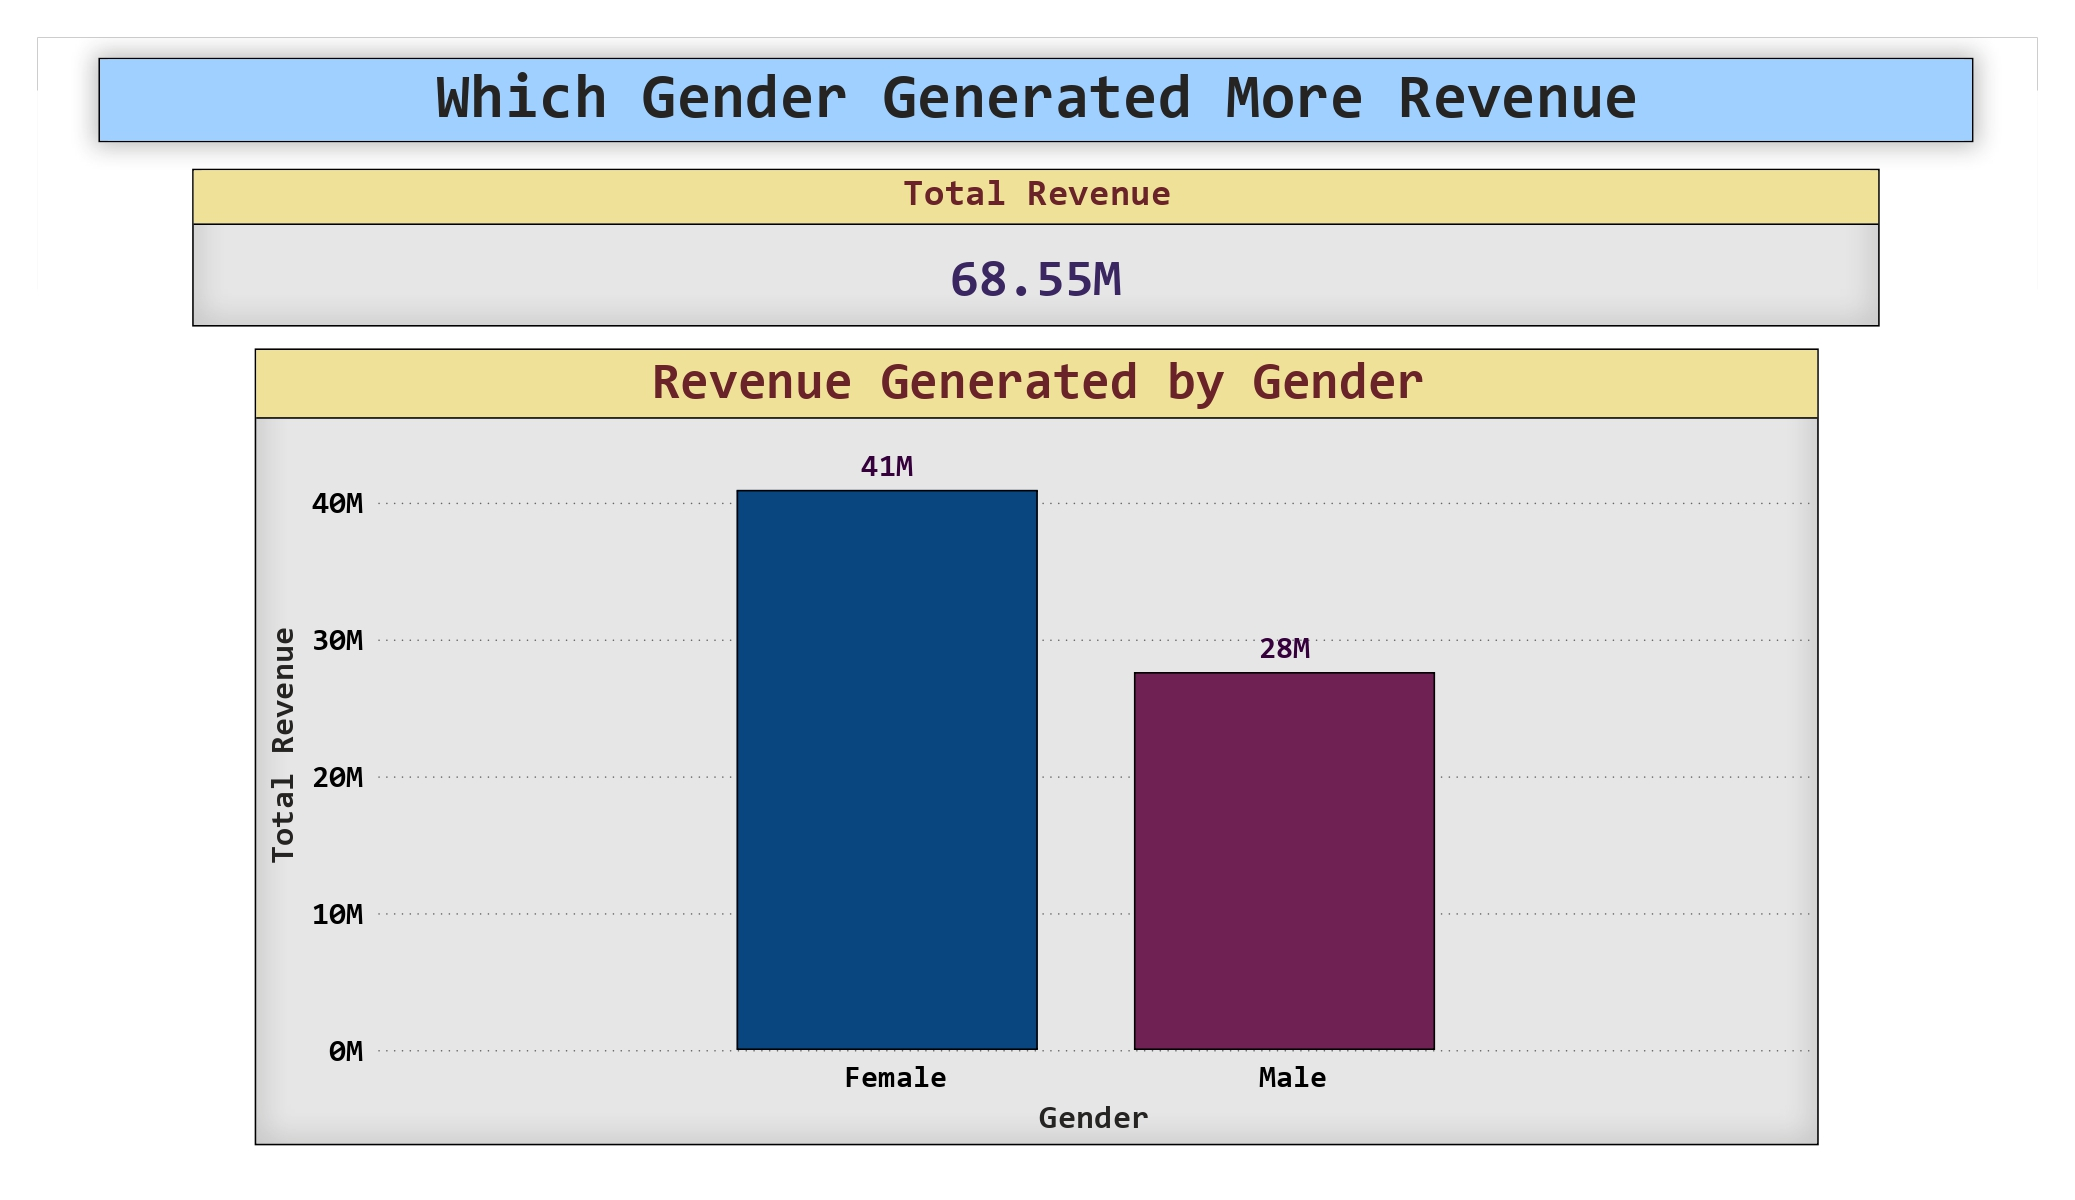

The page's visual inventory and layout, read from the dashboard file:
{"tool":"powerbi","page":{"name":"3","canvas":[1280,720],"ordinal":2},"visuals":[{"type":"clusteredColumnChart","title":"Revenue Generated by Gender","fields":{"Category":["customer.gender"],"Y":["Sum(customer.revenue)"]},"box":[139.4,199.3,1000.3,509.9],"z":0},{"type":"card","title":"Total Revenue","fields":{"Values":["Sum(customer.revenue)"]},"box":[99,84.4,1079.8,100.3],"z":1000},{"type":"textbox","title":"Which Gender Generated More Revenue","box":[39.1,13.5,1199.6,53.8],"z":2000}]}

Visuals, with their boxes on the page's 1280x720 design canvas (x1, y1, x2, y2). These are canvas units, not pixel positions in the 2075x1200 screenshot, which may show the page scaled, cropped or inside an application window:
"Revenue Generated by Gender" clusteredColumnChart: x1=139, y1=199, x2=1140, y2=709
"Total Revenue" card: x1=99, y1=84, x2=1179, y2=185
"Which Gender Generated More Revenue" textbox: x1=39, y1=14, x2=1239, y2=67
